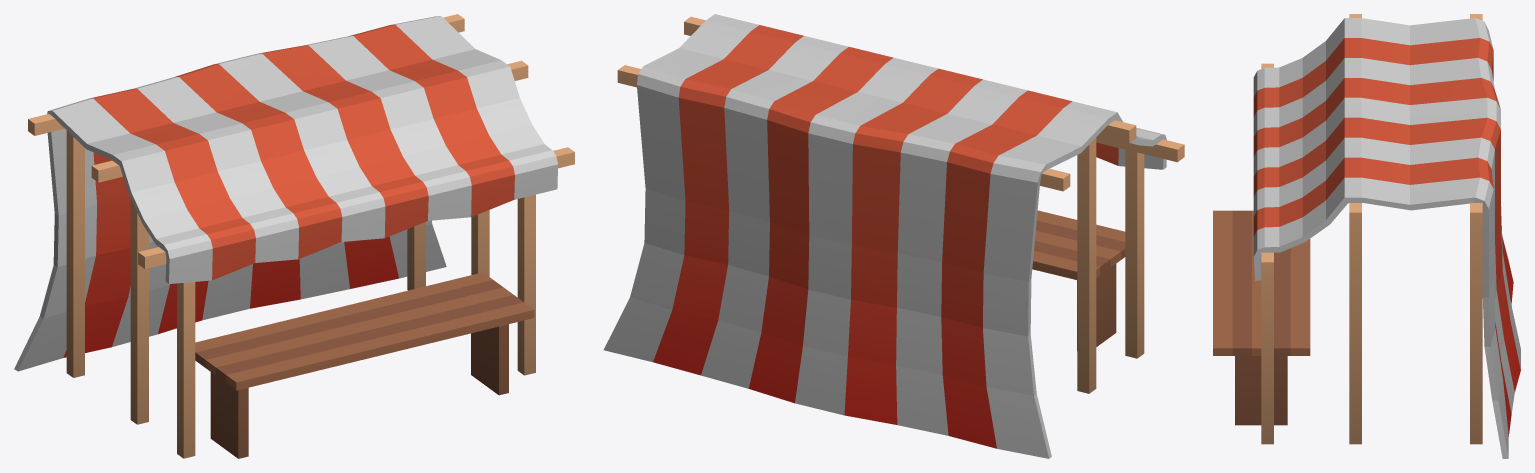
File: food-tent-4.glb
3 renders of one model, left to right at view 1: azimuth 30°, elevation 25°; view 2: azimuth 150°, elevation 25°; view 3: azimuth 270°, elevation 25°, orthographic. The views are drawn at different scales.
Parts seen in each view (by area): view 1: food tent 4; view 2: food tent 4; view 3: food tent 4.
Part boxes in pixels (left/top/right/bottom): food tent 4: left=14, top=14, right=574, bottom=458; food tent 4: left=603, top=14, right=1184, bottom=458; food tent 4: left=1213, top=14, right=1520, bottom=458.
Bounding box in the file's own units: 4.67 × 2.79 × 3.05.
1 material, 1 textured.
